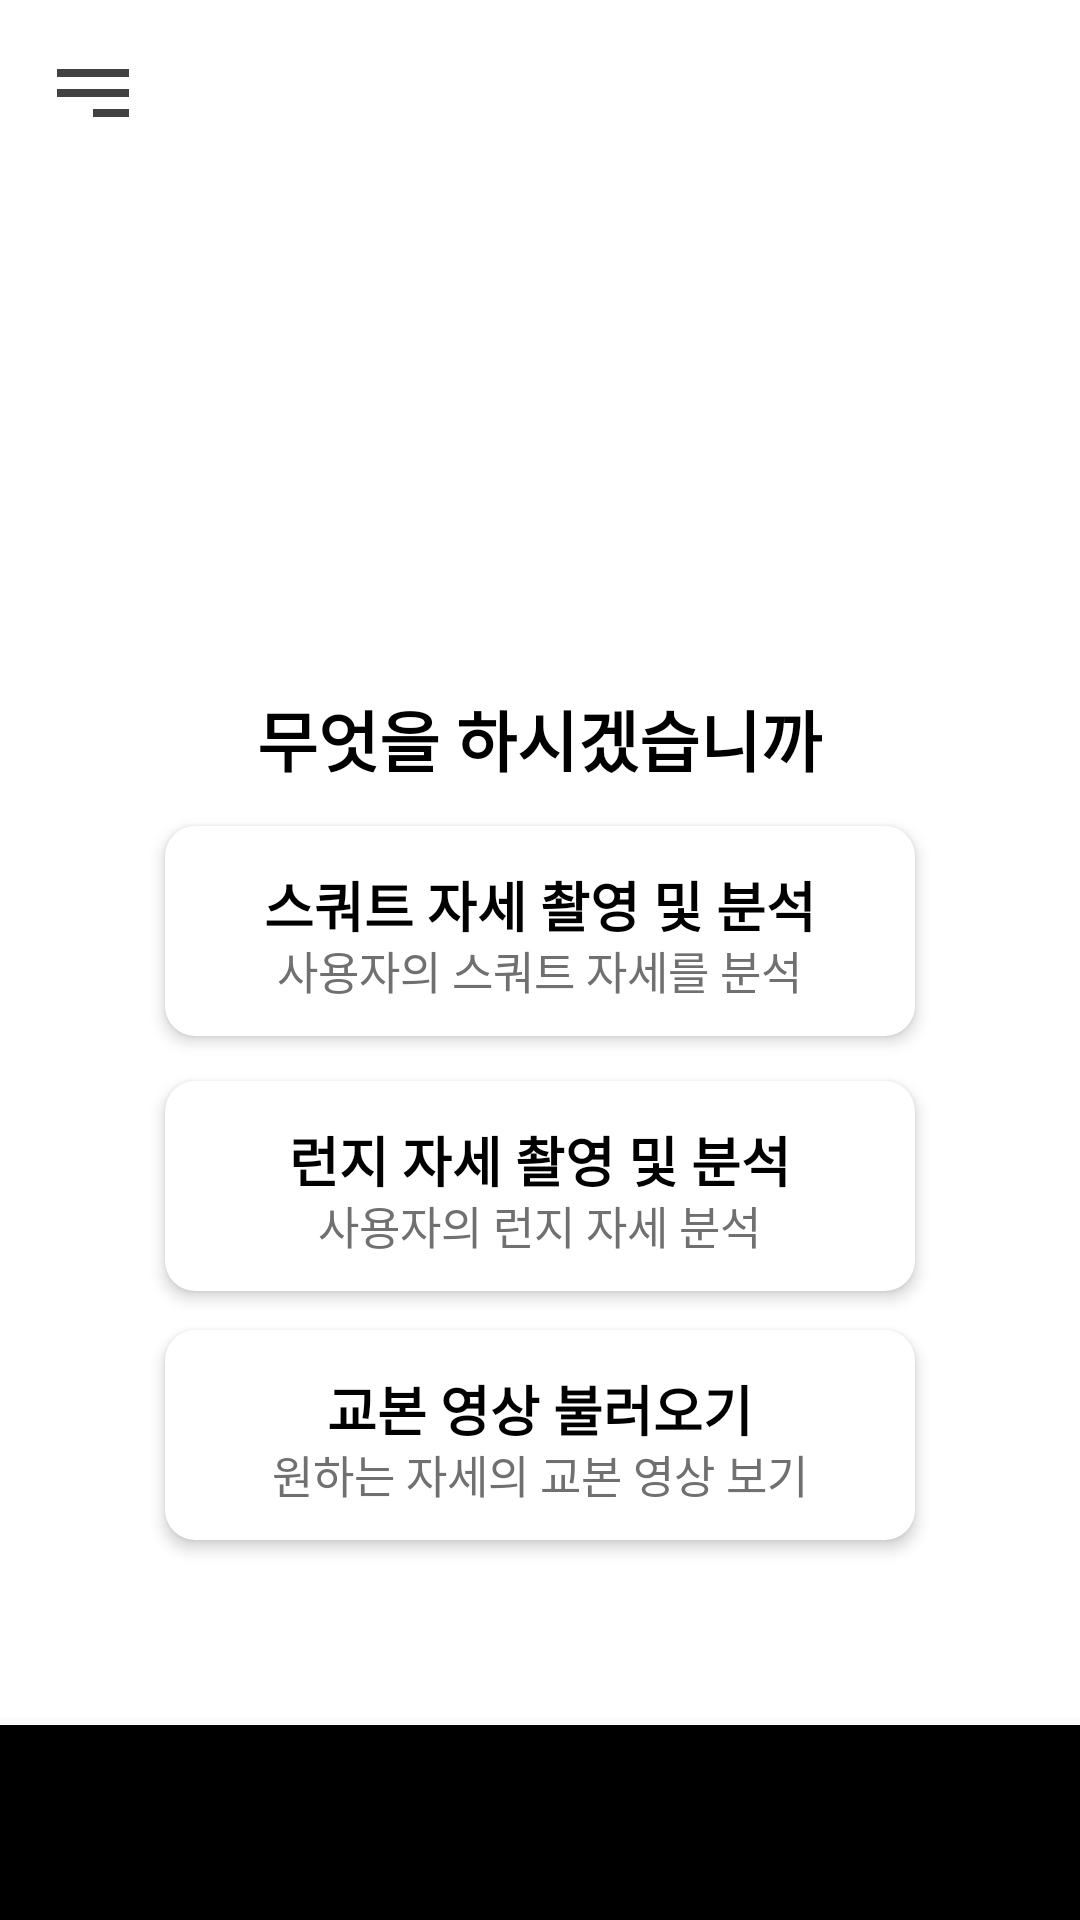

Icon bounding boxes for this 1080*1920 phone screenshot, format (x1, y1, x2, y2):
nav: (57, 69, 129, 117)
